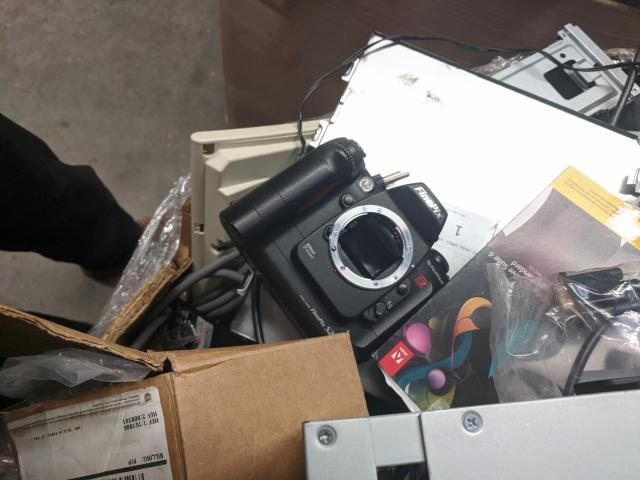CRS: (318, 426, 336, 447), (464, 411, 482, 432)
